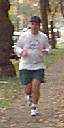person: (15, 12, 52, 115)
